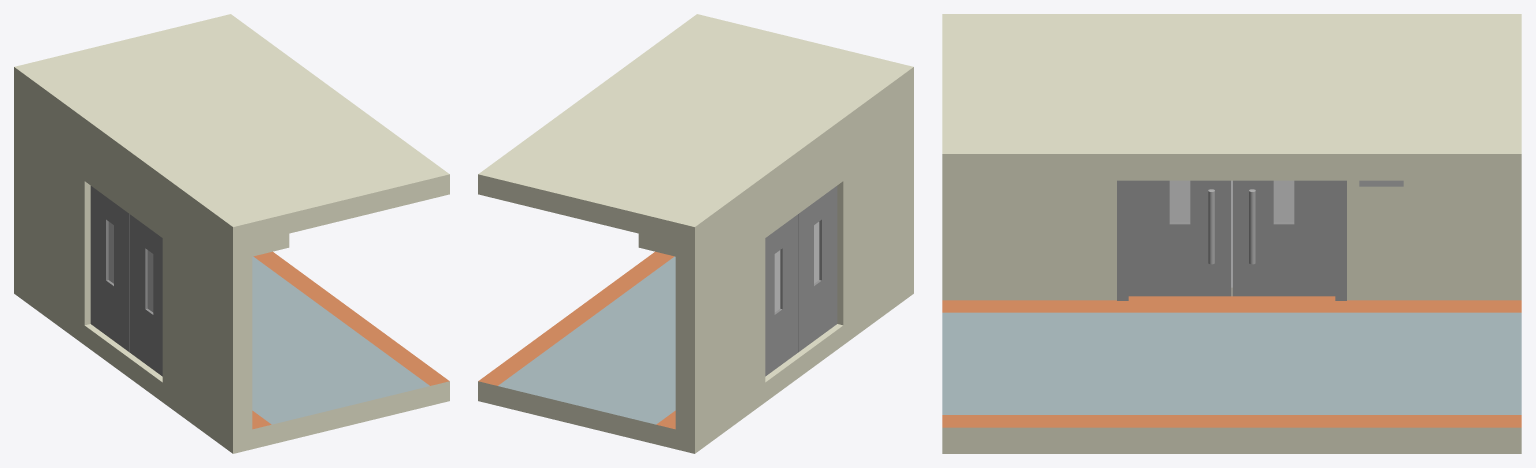
The model's file is hospital_corridor_maptiles (1).fbx.
3 views of the same model, side by side, from view 1: azimuth 30°, elevation 25°; view 2: azimuth 150°, elevation 25°; view 3: azimuth 270°, elevation 25° (orthographic). The views are drawn at different scales.
Parts seen in each view (by area): view 1: wall, door, glass; view 2: wall, door, glass; view 3: wall, door, glass, handle.
Part boxes in pixels (box(x1,y1,x2,y2)): wall: box(14, 14, 449, 453); door: box(90, 186, 162, 376); glass: box(108, 222, 153, 312); wall: box(478, 14, 913, 453); door: box(765, 186, 837, 376); glass: box(774, 222, 819, 312); wall: box(942, 14, 1521, 453); door: box(1128, 180, 1335, 296); glass: box(1169, 180, 1294, 222); handle: box(1208, 189, 1255, 264).
Bounding box in the file's own units: 400 × 400 × 700.
